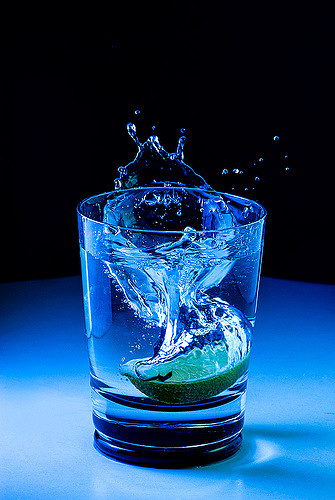glass of water: (74, 192, 257, 410)
